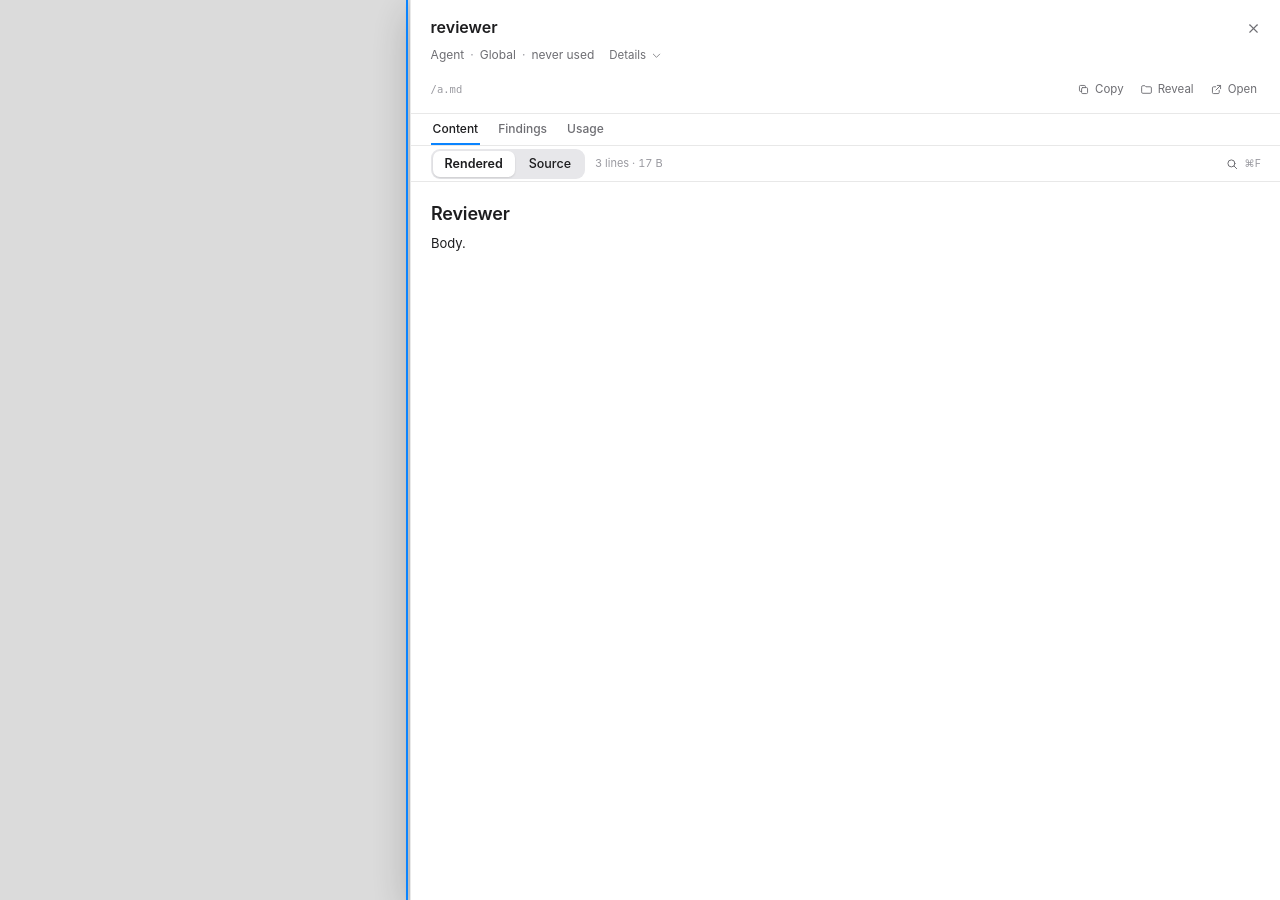
Scenario: ItemViewer — a non-skill item › renders a markdown file as markdown, with its source a click away
Expected: the heading "Reviewer" is shown, [431,203,509,224]
Click the button "Source": [550, 164] box [517,151,583,177]
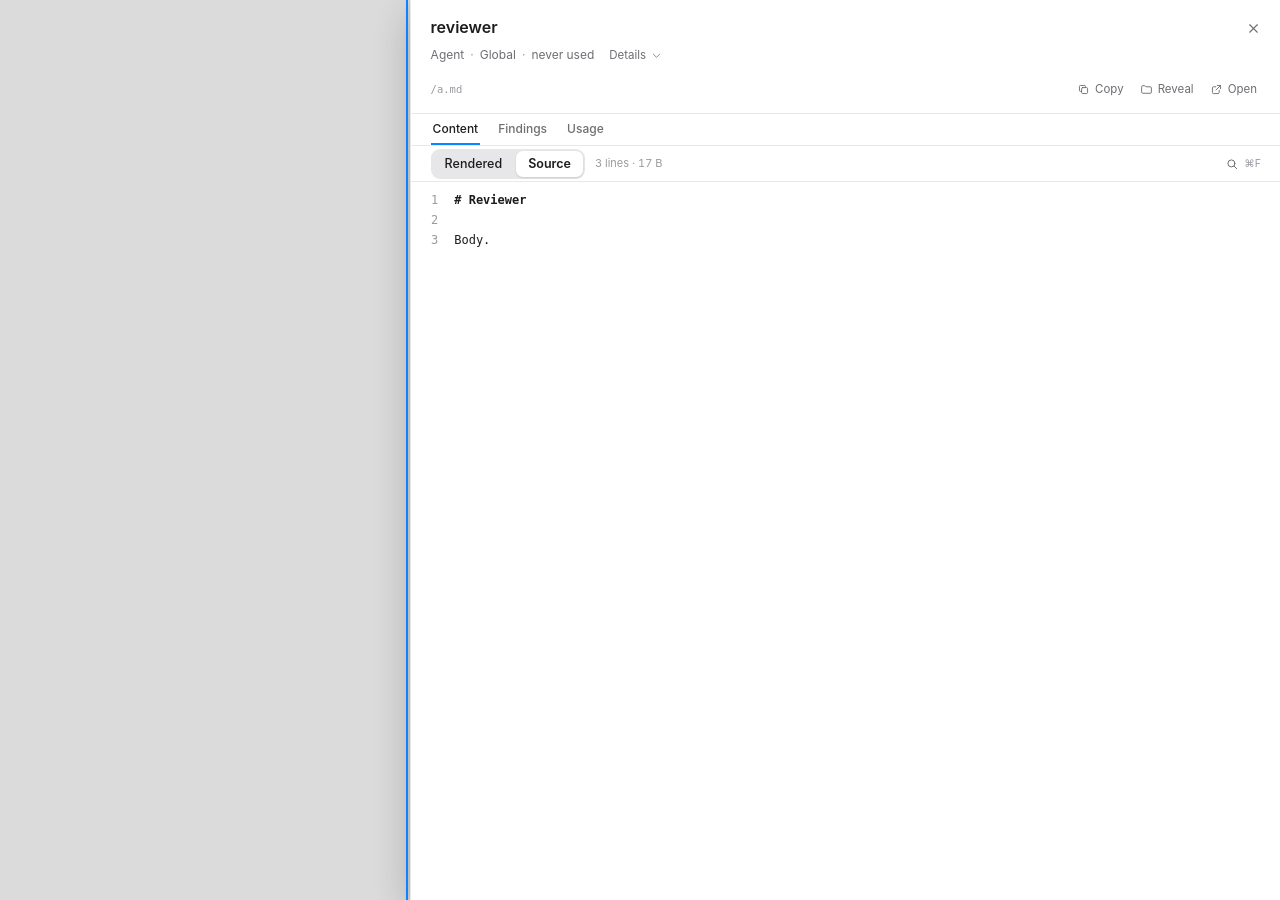
Now the element named "reviewer source" shows "# Reviewer", box [454,193,526,207]
